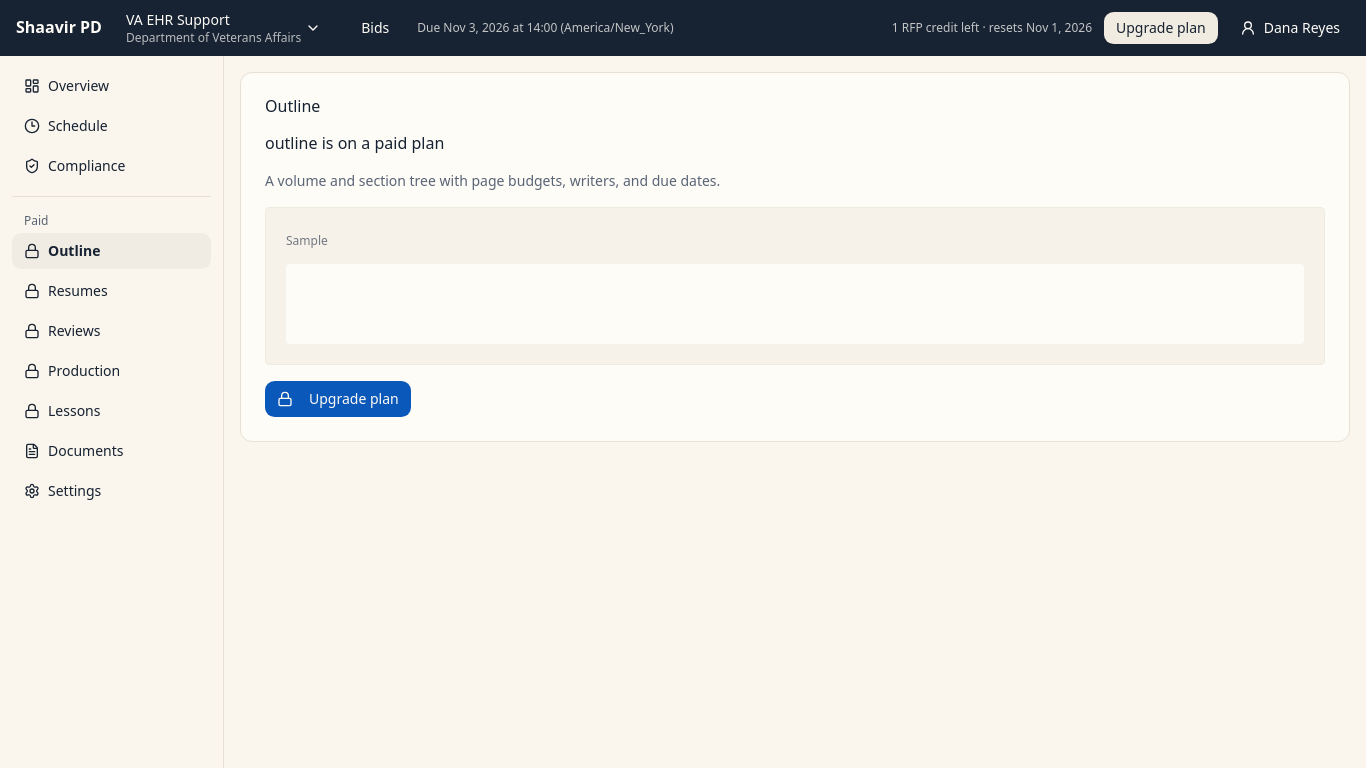
ShellContainer › draws a paid tab on Free as locked, and its upgrade opens the dialog and Checkout
Expected: the text "outline is on a paid plan" is shown, top-left (265, 132), bottom-right (444, 154)
Click the button "Upgrade plan" next to "Nov 1, 2026" at (1161,28), box top-left (1104, 12), bottom-right (1218, 44)
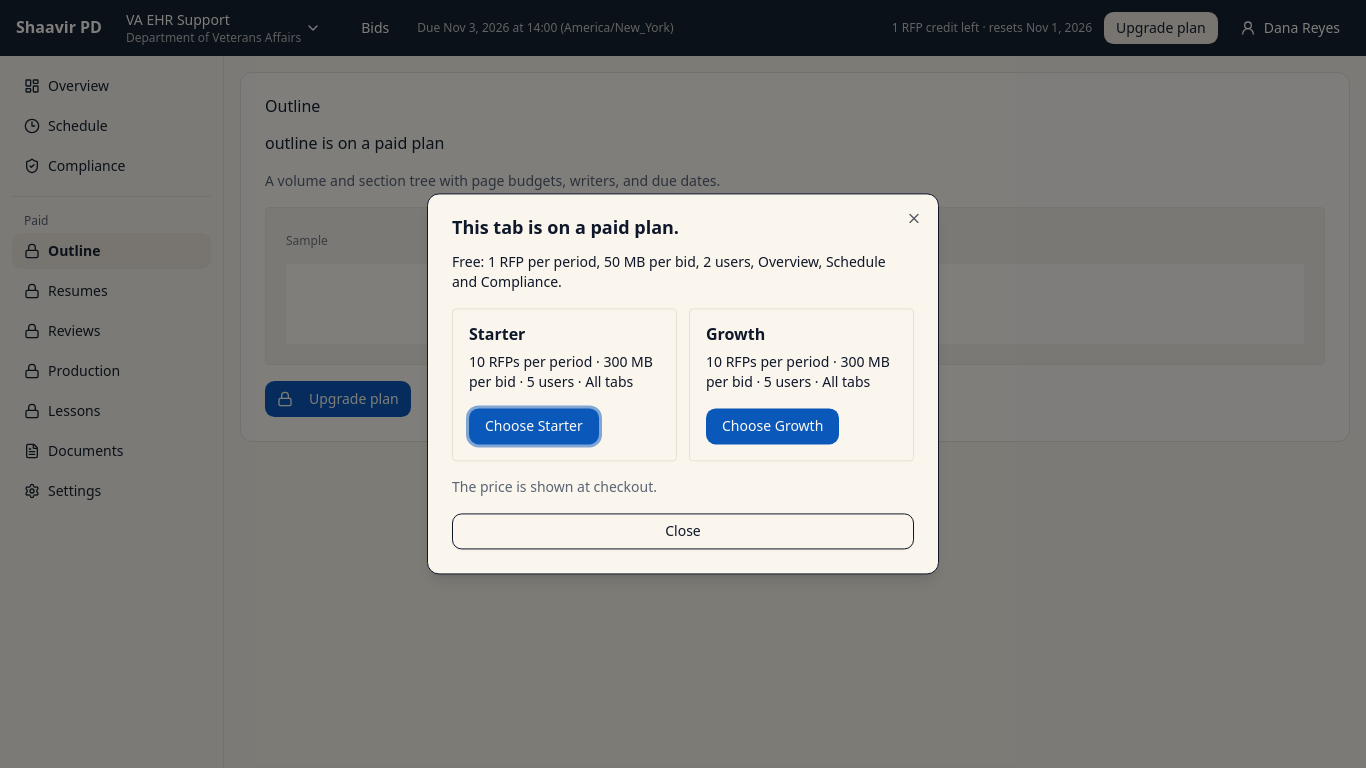
Now the heading "This tab is on a paid plan." is shown, box top-left (452, 215), bottom-right (679, 239)
Click the button "Choose Starter" at (534,427), box top-left (469, 409), bottom-right (599, 445)
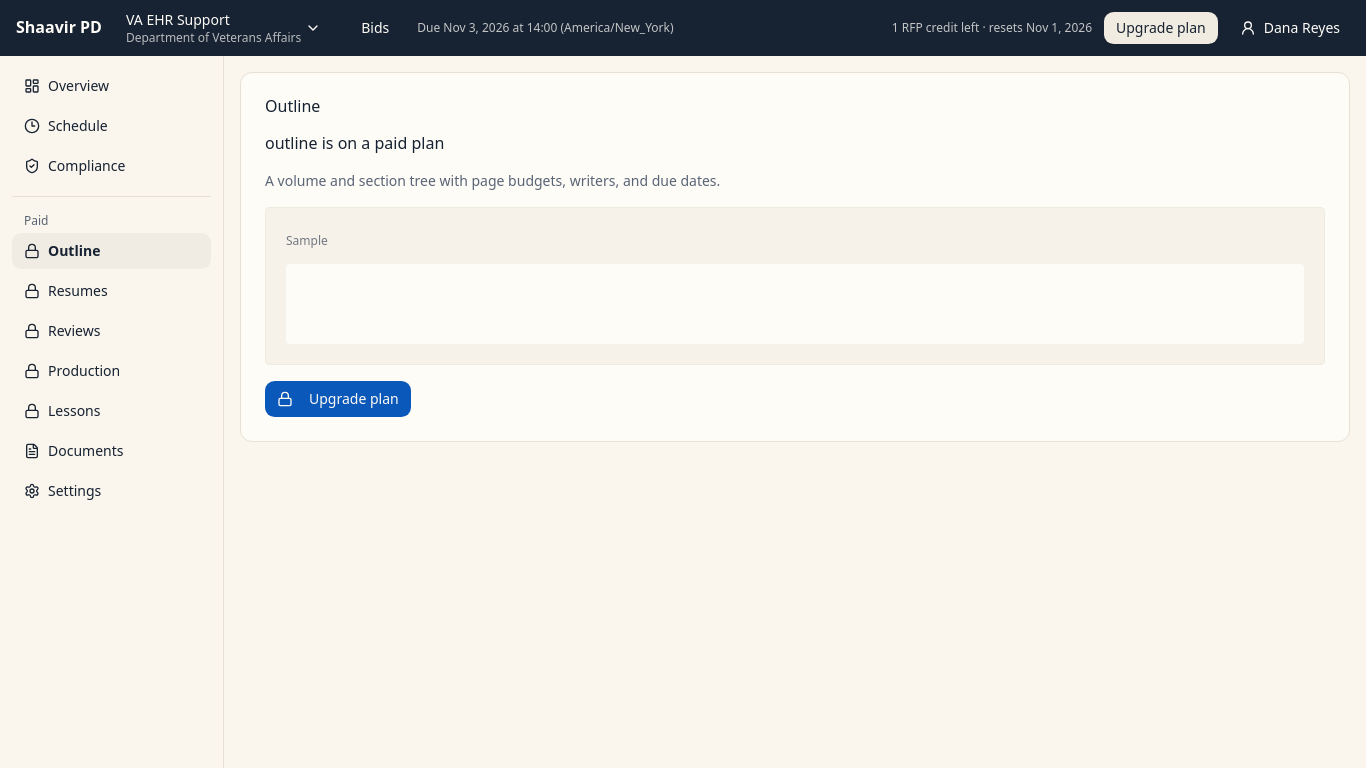
Now the heading "This tab is on a paid plan." is gone
